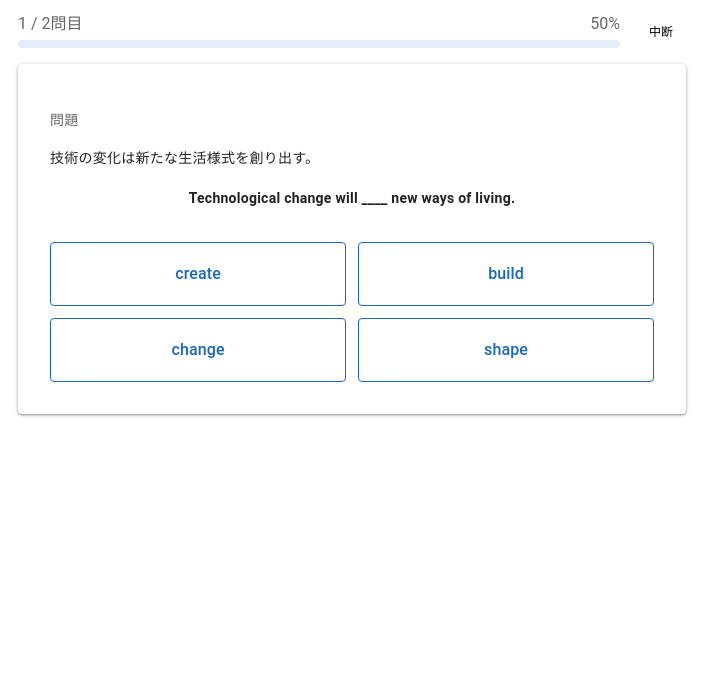
Test case: ClozeView › 誤った選択肢を押すと不正解が表示される
The width and height of the screenshot is (705, 688).
Click the button "build": (506, 274) left=358, top=242, right=654, bottom=306
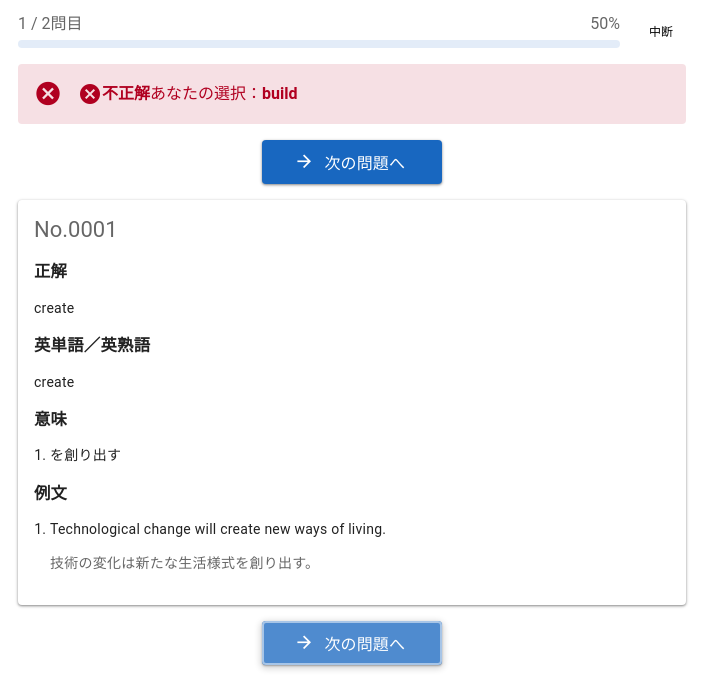
Expected: the text "build" is shown, left=262, top=84, right=298, bottom=103
Expected: the text "不正解" is shown, left=102, top=82, right=150, bottom=106
